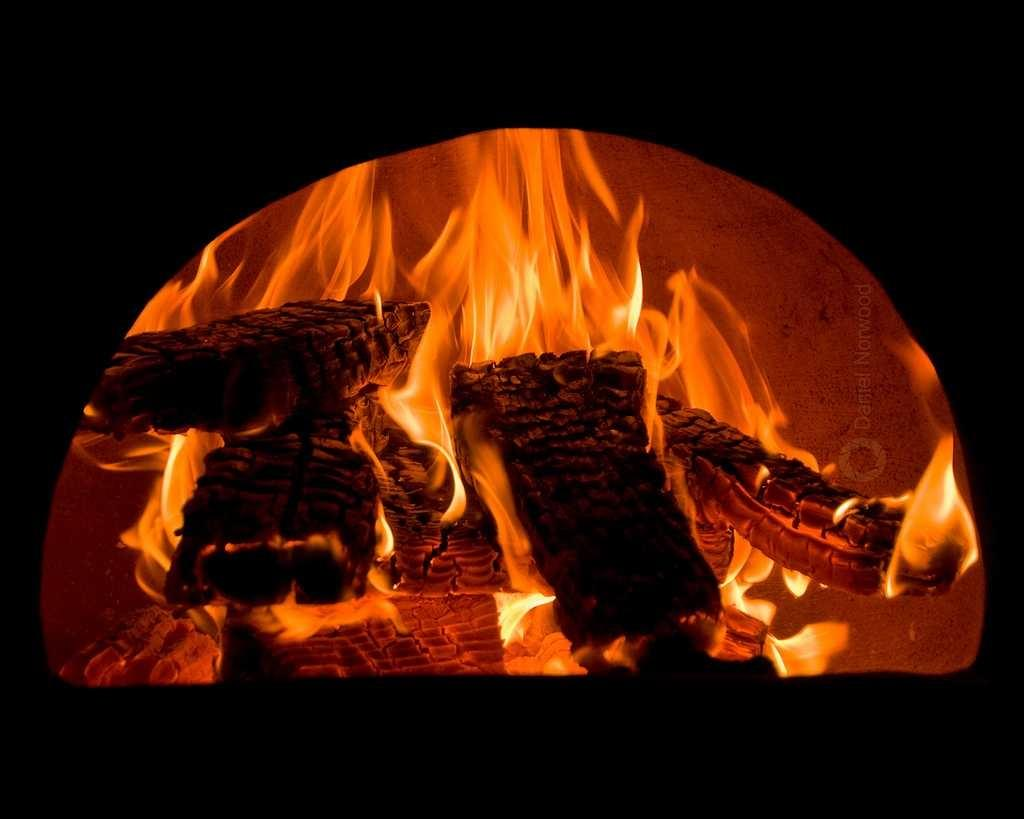fire: (436, 218, 628, 338), (314, 180, 382, 300)
